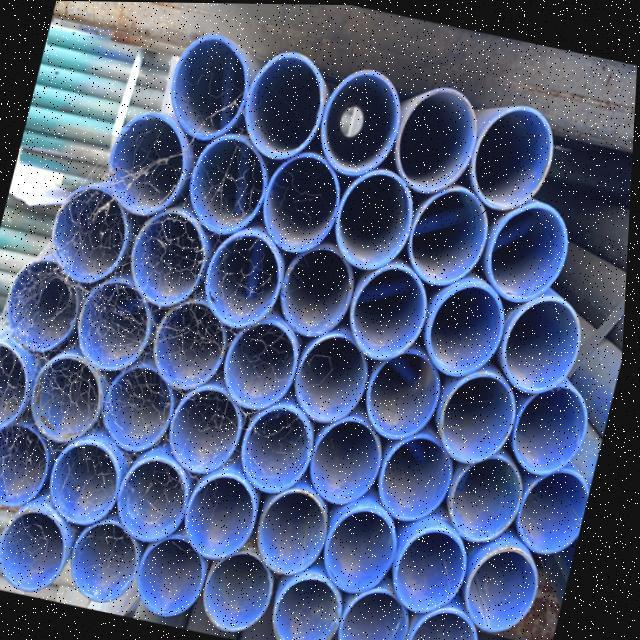pipe: (97, 116, 190, 217), (470, 108, 554, 213), (398, 87, 478, 195), (245, 55, 328, 159), (169, 38, 253, 140), (490, 199, 571, 301), (2, 261, 91, 353), (510, 379, 596, 474), (411, 185, 491, 287), (500, 292, 584, 389), (323, 69, 400, 173), (263, 156, 342, 256), (130, 210, 209, 310), (49, 190, 129, 288), (336, 172, 414, 272), (349, 264, 430, 360), (443, 371, 523, 467), (425, 282, 507, 375), (190, 140, 269, 236), (206, 231, 283, 329), (282, 246, 360, 336), (451, 454, 530, 542), (326, 505, 403, 595), (296, 335, 373, 424), (159, 298, 233, 390), (311, 416, 388, 504), (370, 349, 446, 438), (169, 387, 245, 476), (82, 276, 155, 368), (519, 466, 596, 552), (227, 319, 303, 406), (381, 435, 459, 519), (258, 490, 335, 575), (33, 353, 107, 441), (242, 405, 318, 490), (398, 529, 475, 612), (194, 473, 265, 561), (122, 456, 193, 541), (106, 367, 174, 455), (54, 441, 124, 525), (471, 551, 544, 631), (2, 511, 70, 594), (208, 555, 278, 634), (141, 536, 209, 617), (76, 521, 143, 603), (0, 424, 55, 510), (276, 578, 346, 640), (344, 592, 418, 640), (0, 341, 33, 432), (412, 609, 483, 640)
